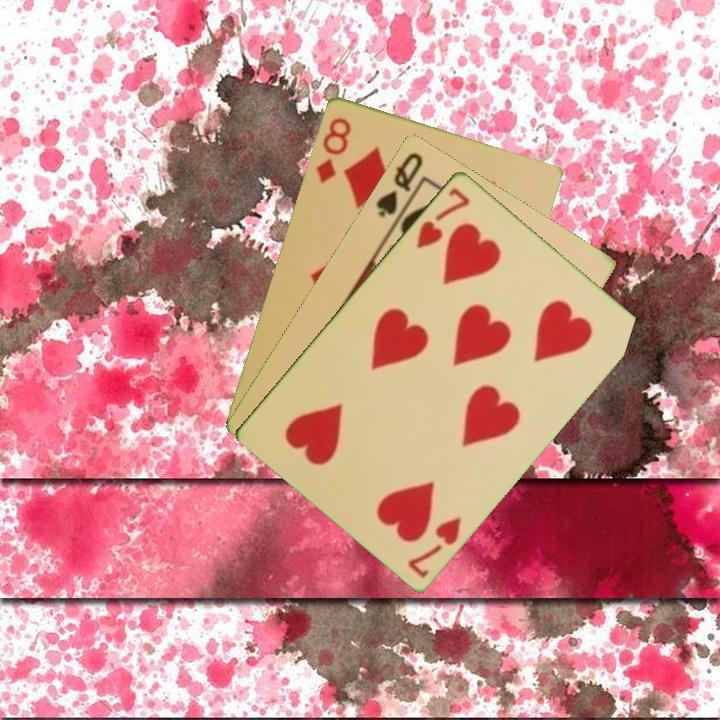7h: (403, 512, 465, 581), (412, 183, 473, 251)
8d: (312, 113, 354, 186)
Qs: (372, 148, 426, 220)
